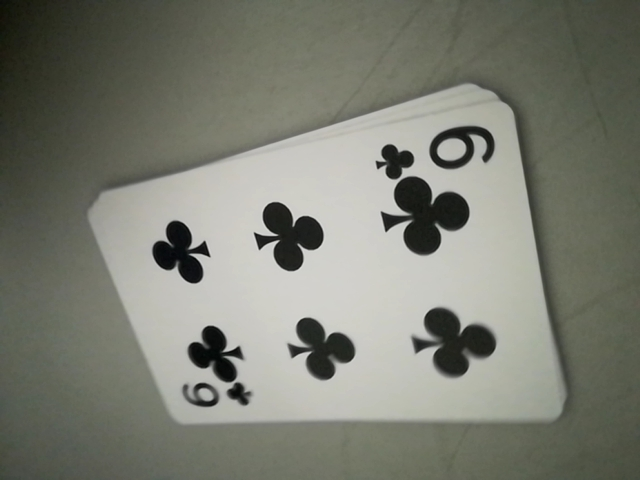mh 6: (374, 118, 503, 178), (175, 378, 255, 417)
